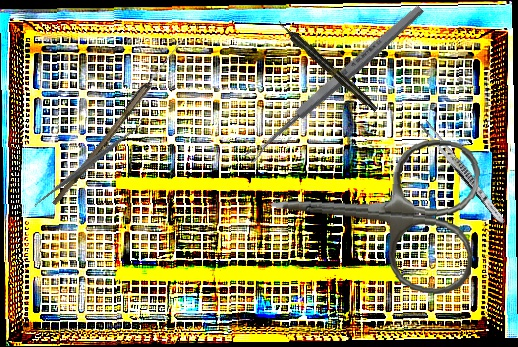Dressing Forceps: (417, 118, 509, 227)
Handpiece: (274, 17, 381, 115)
Iris Scissors: (264, 126, 483, 297)
Spatula Surgical: (29, 115, 149, 212)
Surgical Spoon: (243, 2, 426, 165), (52, 37, 185, 209)
